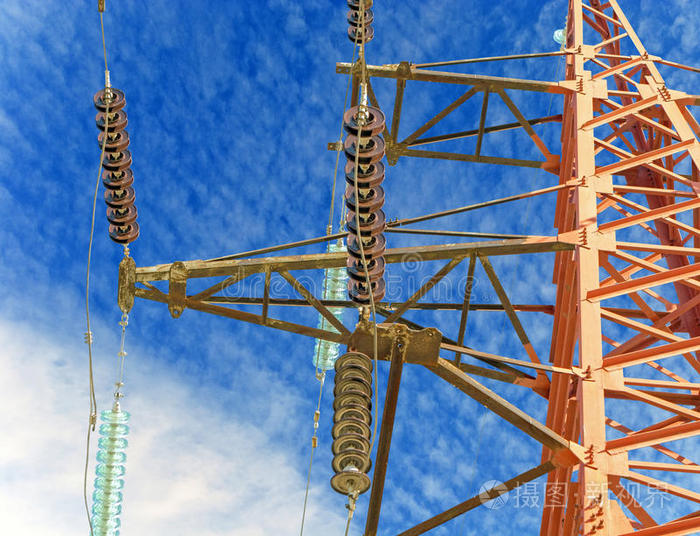insulator: (342, 104, 387, 305), (92, 89, 142, 244), (331, 353, 375, 494), (88, 406, 131, 536), (311, 244, 351, 369), (344, 1, 375, 43)
